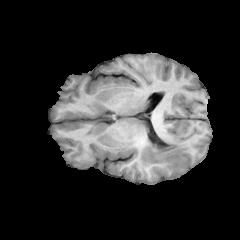glioma: (100, 137, 189, 166)
